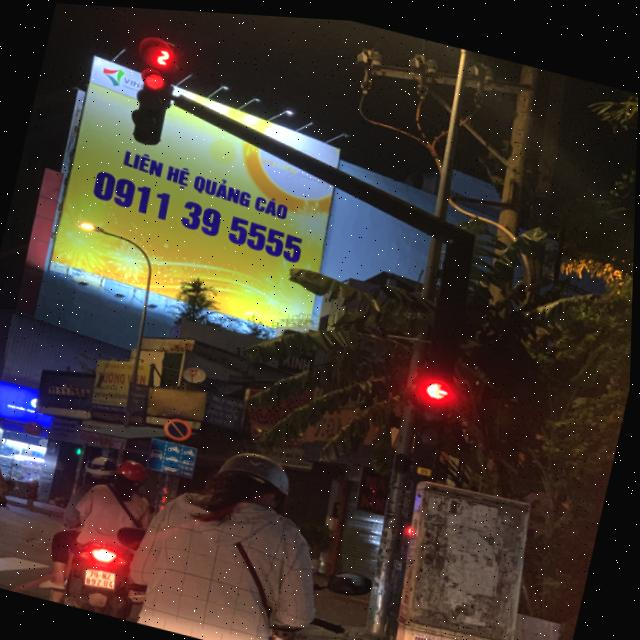Red: (404, 362, 466, 455), (123, 62, 180, 143)
